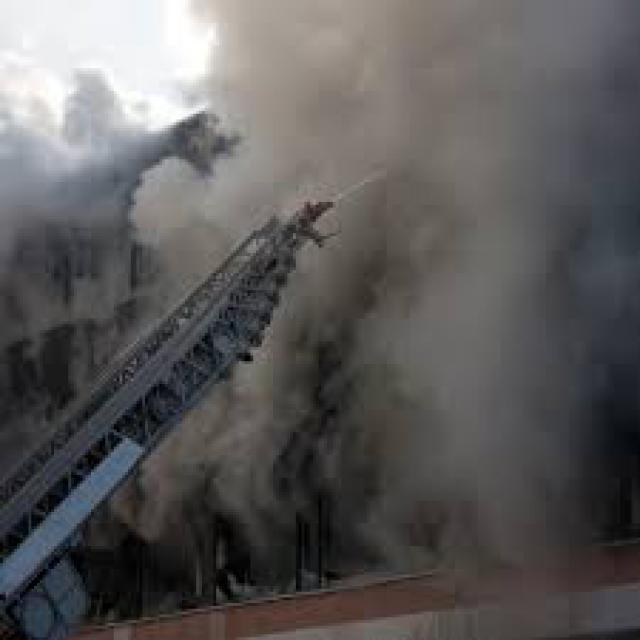Smoke: (235, 41, 638, 543)
